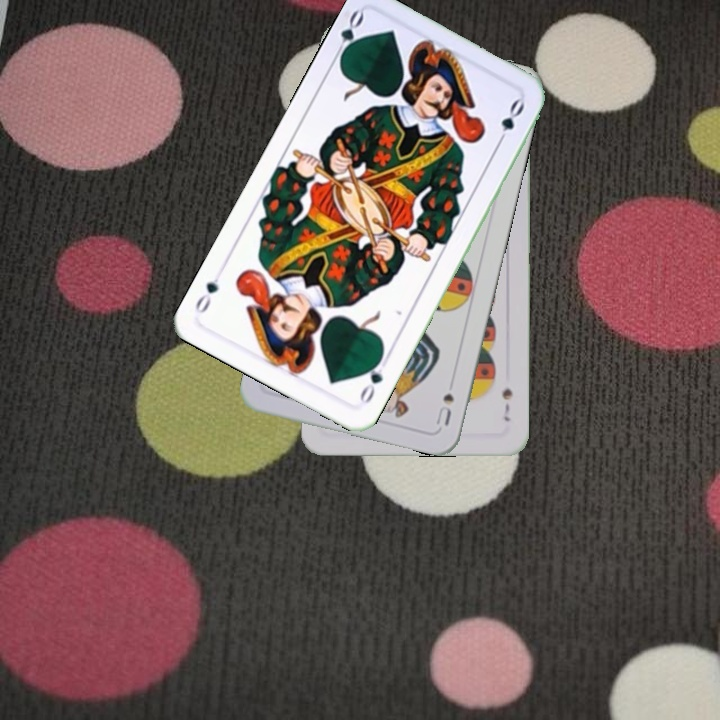GO: (329, 6, 367, 65), (355, 351, 386, 407)
S7: (498, 384, 515, 424)
SU: (432, 389, 457, 428)
